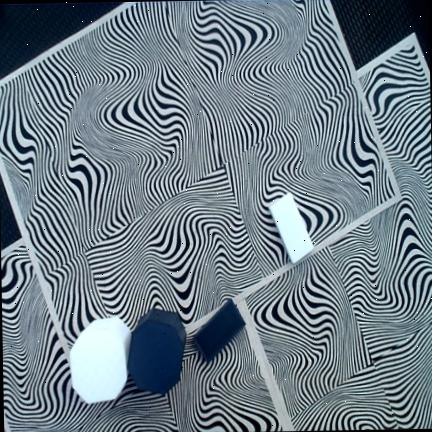Paralelepipedo: (193, 299, 245, 362), (268, 192, 313, 264)
Prisma_hexagonal: (69, 317, 131, 403), (127, 308, 186, 393)
